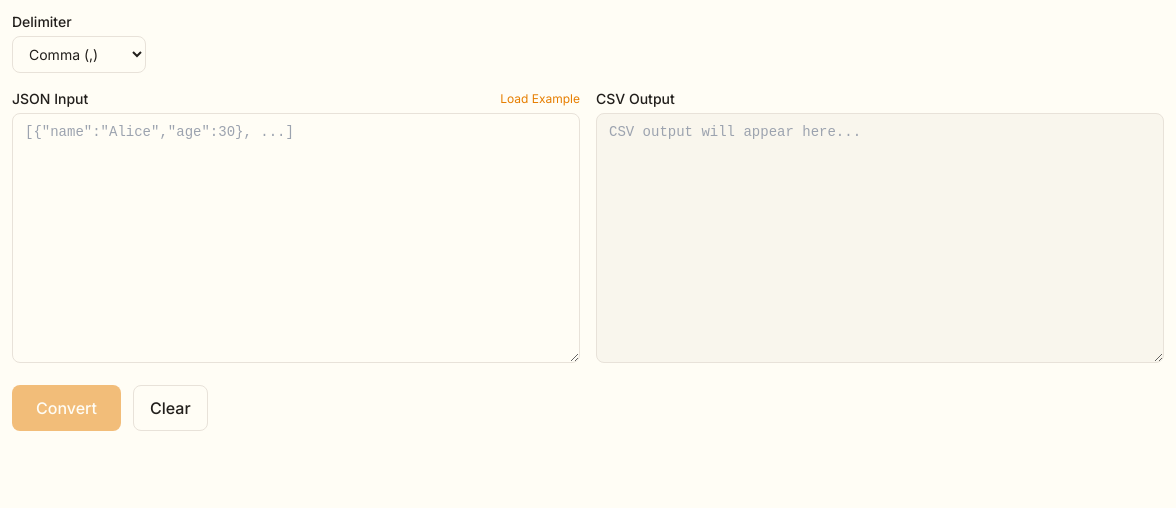
Test: JsonToCsv › shows error for empty array
The image size is (1176, 508).
Type "[]" into the text box named "JSON input" at (296, 238), box 12,113 -> 580,363
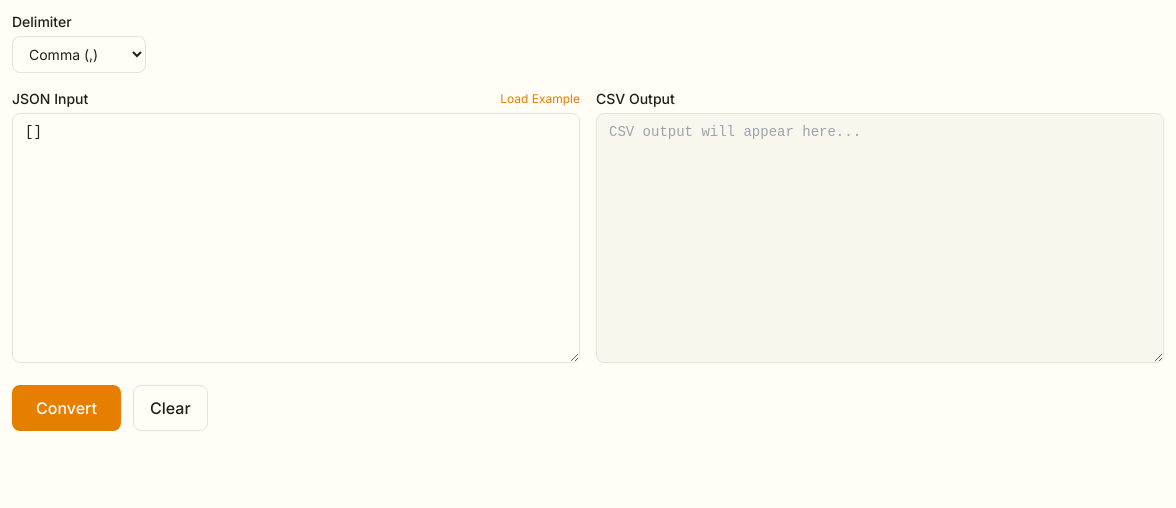
Click the button "Convert" at (66, 408), box 12,385 -> 121,431
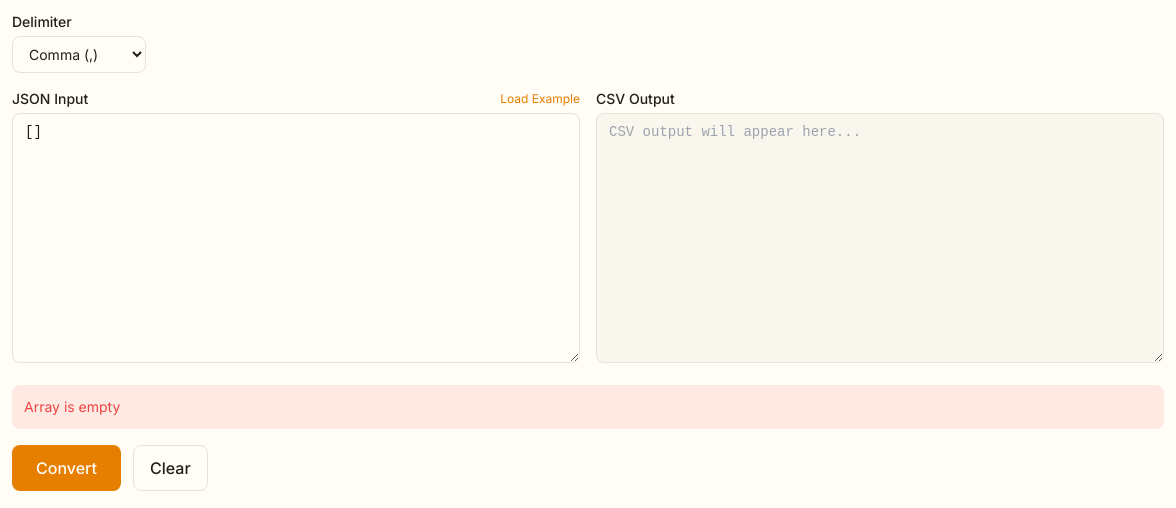
Expected: the text "Array is empty" is shown, 12,385 -> 1164,429
